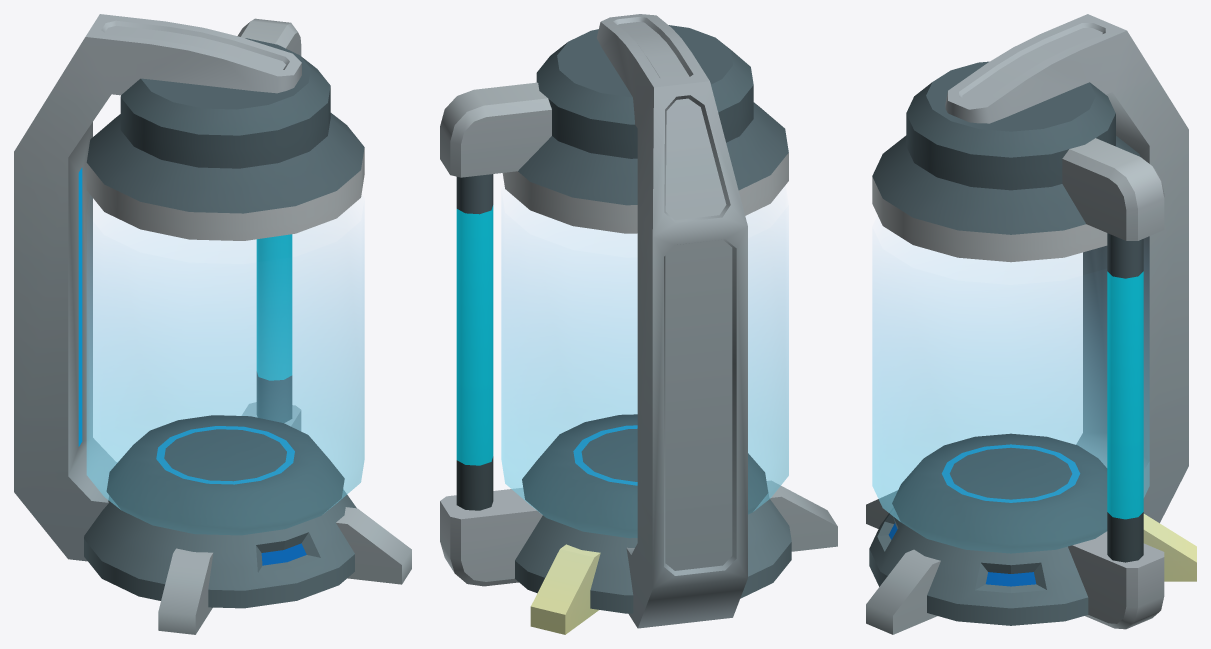
3 renders of one model, left to right at view 1: azimuth 30°, elevation 25°; view 2: azimuth 150°, elevation 25°; view 3: azimuth 270°, elevation 25°, orthographic. The views are drawn at different scales.
Parts seen in each view (by area): view 1: Сapsule_009; view 2: Сapsule_009; view 3: Сapsule_009.
Part boxes in pixels (left/top/right/bottom): Сapsule_009: left=14, top=14, right=411, bottom=634; Сapsule_009: left=440, top=14, right=837, bottom=634; Сapsule_009: left=866, top=14, right=1196, bottom=634.
Size of the model in its own units: 1.79 by 3.05 by 1.79.
3 materials, 3 textured.
